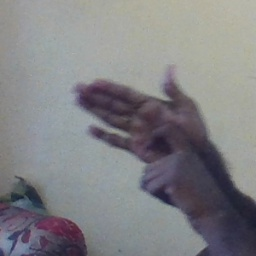R: (66, 59, 207, 195)
